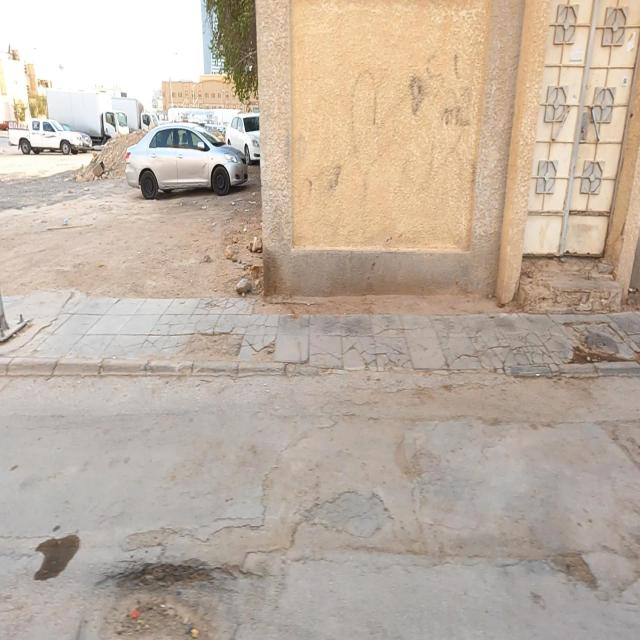Graffiti: (294, 52, 478, 217)
